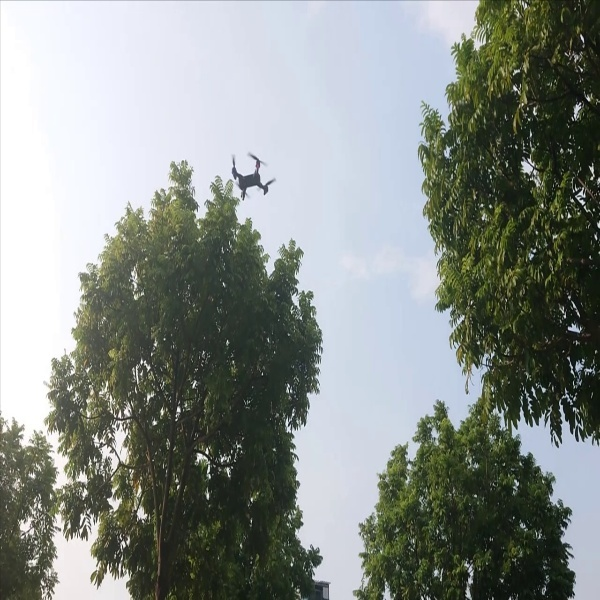drone: (225, 145, 278, 207)
